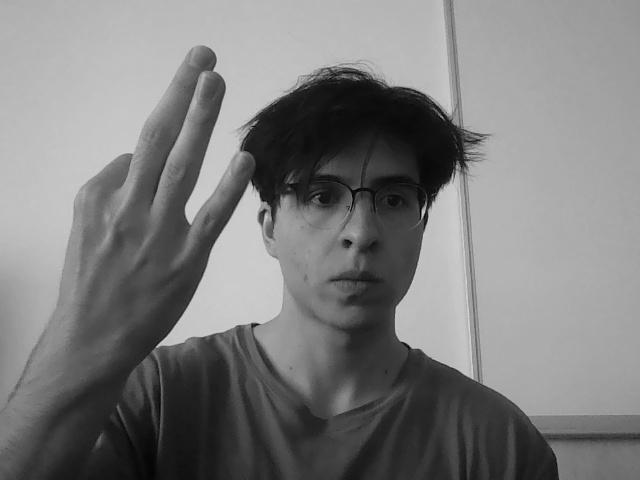OK: (86, 53, 252, 387)
